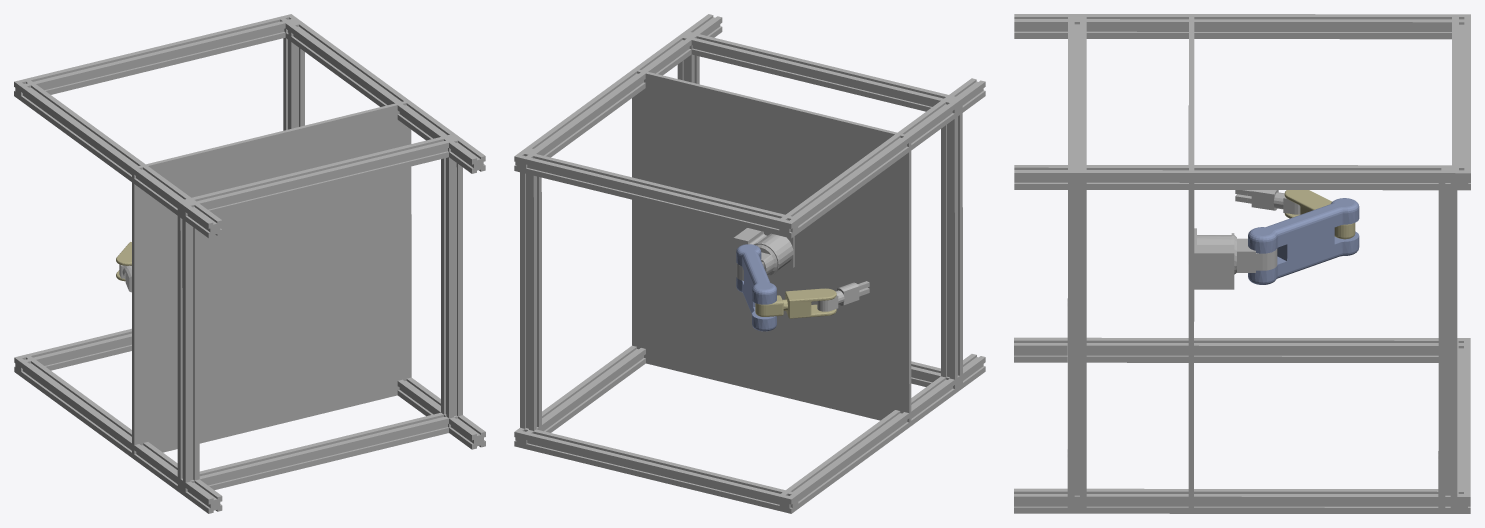
File: UPJ.dae
3 renders of one model, left to right at view 1: azimuth 30°, elevation 25°; view 2: azimuth 150°, elevation 25°; view 3: azimuth 270°, elevation 25°, orthographic. The views are drawn at different scales.
Visible parts, largest first — view 1: ShapeIndexedFaceSet_009, ShapeIndexedFaceSet_004, ShapeIndexedFaceSet_006, ShapeIndexedFaceSet_012, ShapeIndexedFaceSet_003, ShapeIndexedFaceSet_011, ShapeIndexedFaceSet_010, ShapeIndexedFaceSet_002, ShapeIndexedFaceSet, ShapeIndexedFaceSet_005, ShapeIndexedFaceSet_007, ShapeIndexedFaceSet_001; view 2: ShapeIndexedFaceSet_009, ShapeIndexedFaceSet_006, ShapeIndexedFaceSet_005, ShapeIndexedFaceSet_004, ShapeIndexedFaceSet_012, ShapeIndexedFaceSet_007, ShapeIndexedFaceSet_010, ShapeIndexedFaceSet_002, ShapeIndexedFaceSet, ShapeIndexedFaceSet_001, ShapeIndexedFaceSet_015, ShapeIndexedFaceSet_008 (+4 smaller); view 3: ShapeIndexedFaceSet, ShapeIndexedFaceSet_001, ShapeIndexedFaceSet_010, ShapeIndexedFaceSet_002, ShapeIndexedFaceSet_007, ShapeIndexedFaceSet_003, ShapeIndexedFaceSet_015, ShapeIndexedFaceSet_008, ShapeIndexedFaceSet_006, ShapeIndexedFaceSet_009, ShapeIndexedFaceSet_012, ShapeIndexedFaceSet_005 (+2 smaller).
Part boxes in pixels (bbox=[...]): ShapeIndexedFaceSet_009: bbox=[132, 100, 411, 459]; ShapeIndexedFaceSet_004: bbox=[177, 198, 199, 496]; ShapeIndexedFaceSet_006: bbox=[14, 14, 294, 101]; ShapeIndexedFaceSet_012: bbox=[177, 134, 461, 218]; ShapeIndexedFaceSet_003: bbox=[441, 133, 462, 427]; ShapeIndexedFaceSet_011: bbox=[177, 412, 457, 495]; ShapeIndexedFaceSet_010: bbox=[14, 79, 222, 238]; ShapeIndexedFaceSet_002: bbox=[14, 354, 222, 513]; ShapeIndexedFaceSet: bbox=[278, 14, 485, 173]; ShapeIndexedFaceSet_005: bbox=[14, 328, 131, 374]; ShapeIndexedFaceSet_007: bbox=[283, 19, 304, 130]; ShapeIndexedFaceSet_001: bbox=[397, 377, 485, 449]; ShapeIndexedFaceSet_009: bbox=[632, 69, 911, 422]; ShapeIndexedFaceSet_006: bbox=[514, 151, 799, 238]; ShapeIndexedFaceSet_005: bbox=[515, 428, 799, 513]; ShapeIndexedFaceSet_004: bbox=[941, 98, 962, 392]; ShapeIndexedFaceSet_012: bbox=[682, 32, 962, 112]; ShapeIndexedFaceSet_007: bbox=[520, 148, 541, 430]; ShapeIndexedFaceSet_010: bbox=[777, 78, 985, 237]; ShapeIndexedFaceSet_002: bbox=[777, 354, 985, 513]; ShapeIndexedFaceSet: bbox=[514, 14, 722, 173]; ShapeIndexedFaceSet_001: bbox=[514, 345, 645, 449]; ShapeIndexedFaceSet_015: bbox=[736, 244, 776, 331]; ShapeIndexedFaceSet_008: bbox=[733, 228, 794, 280]; ShapeIndexedFaceSet: bbox=[1014, 165, 1470, 190]; ShapeIndexedFaceSet_001: bbox=[1014, 488, 1470, 513]; ShapeIndexedFaceSet_010: bbox=[1014, 14, 1470, 39]; ShapeIndexedFaceSet_002: bbox=[1014, 337, 1470, 362]; ShapeIndexedFaceSet_007: bbox=[1438, 165, 1457, 513]; ShapeIndexedFaceSet_003: bbox=[1067, 165, 1086, 513]; ShapeIndexedFaceSet_015: bbox=[1248, 198, 1359, 284]; ShapeIndexedFaceSet_008: bbox=[1194, 228, 1277, 289]; ShapeIndexedFaceSet_006: bbox=[1452, 14, 1470, 189]; ShapeIndexedFaceSet_009: bbox=[1188, 14, 1194, 513]; ShapeIndexedFaceSet_012: bbox=[1068, 14, 1086, 188]; ShapeIndexedFaceSet_005: bbox=[1452, 338, 1470, 513].
Size of the model in its own units: 1.4 by 1.7 by 1.4.
